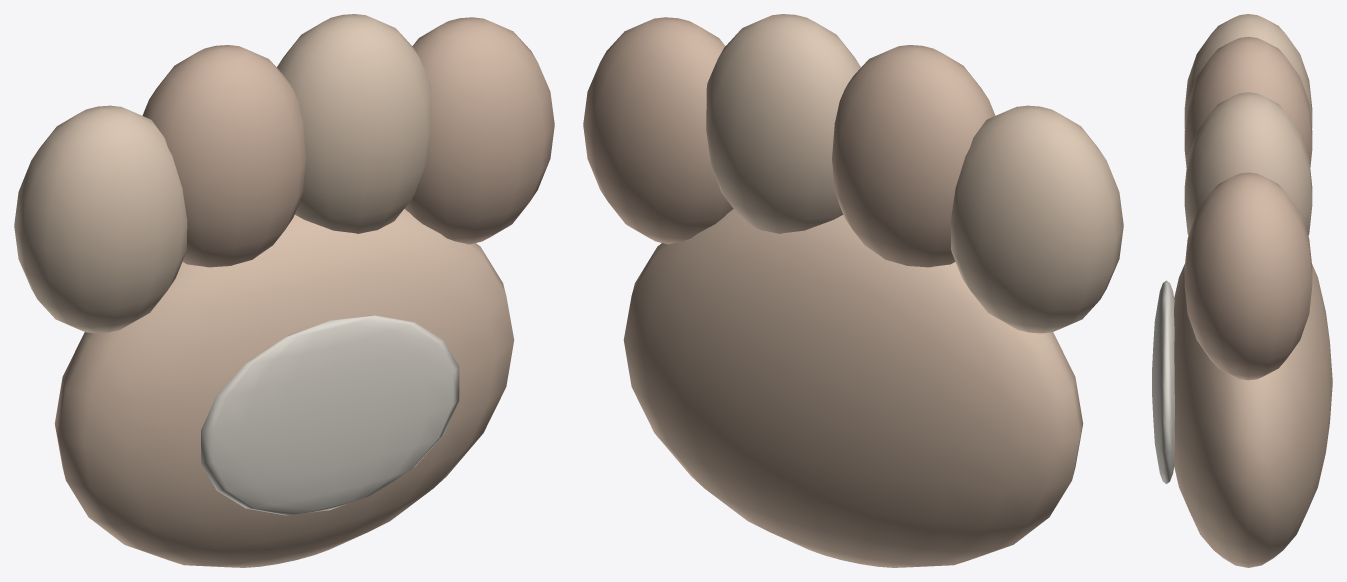
File: mypets-paw-charm.glb
3 renders of one model, left to right at view 1: azimuth 30°, elevation 25°; view 2: azimuth 150°, elevation 25°; view 3: azimuth 270°, elevation 25°, orthographic. The views are drawn at different scales.
Visible parts, largest first — view 1: mypets-original; view 2: mypets-original; view 3: mypets-original.
Part boxes in pixels (bbox=[...]): mypets-original: bbox=[14, 14, 554, 567]; mypets-original: bbox=[583, 14, 1123, 567]; mypets-original: bbox=[1152, 14, 1332, 567].
Size of the model in its own units: 1.16 by 1.1 by 0.3855.
